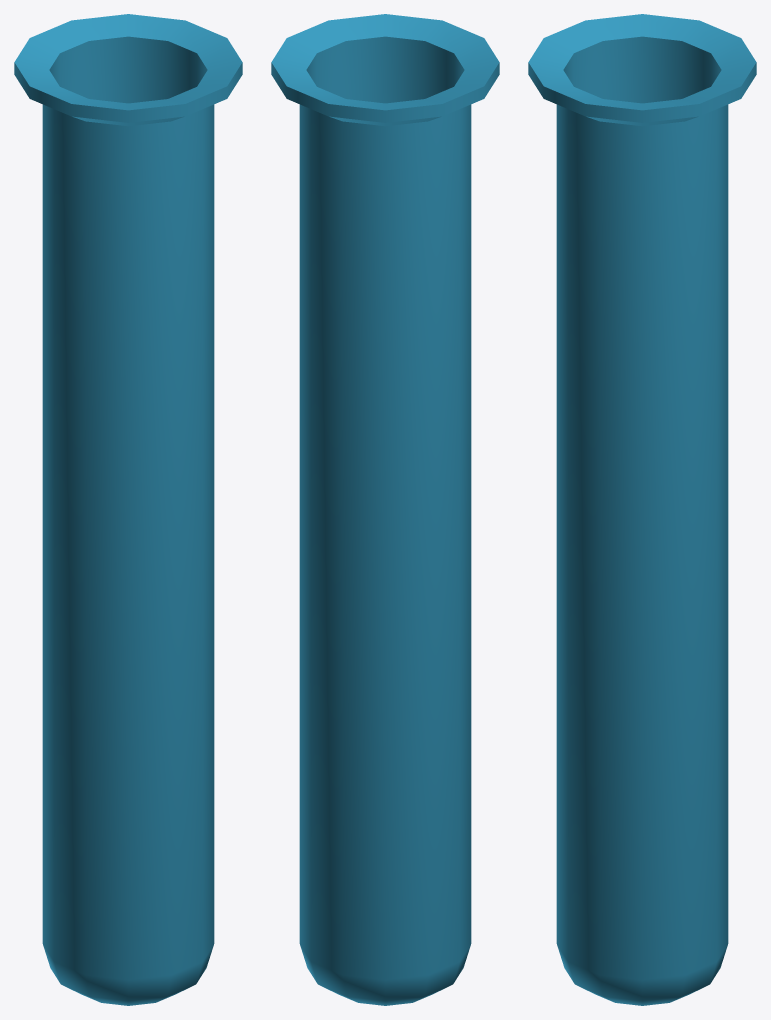
Rendered from probirka.FBX.
3 views of the same model, side by side, from view 1: azimuth 30°, elevation 25°; view 2: azimuth 150°, elevation 25°; view 3: azimuth 270°, elevation 25° (orthographic).
Parts seen in each view (by area): view 1: probirka; view 2: probirka; view 3: probirka.
Boxes of the visible parts, x1,y1,x2,y2 form: probirka: (14, 14, 242, 1005); probirka: (271, 14, 499, 1005); probirka: (528, 14, 756, 1005).
Size of the model in its own units: 0.0267 by 0.1204 by 0.0267.
